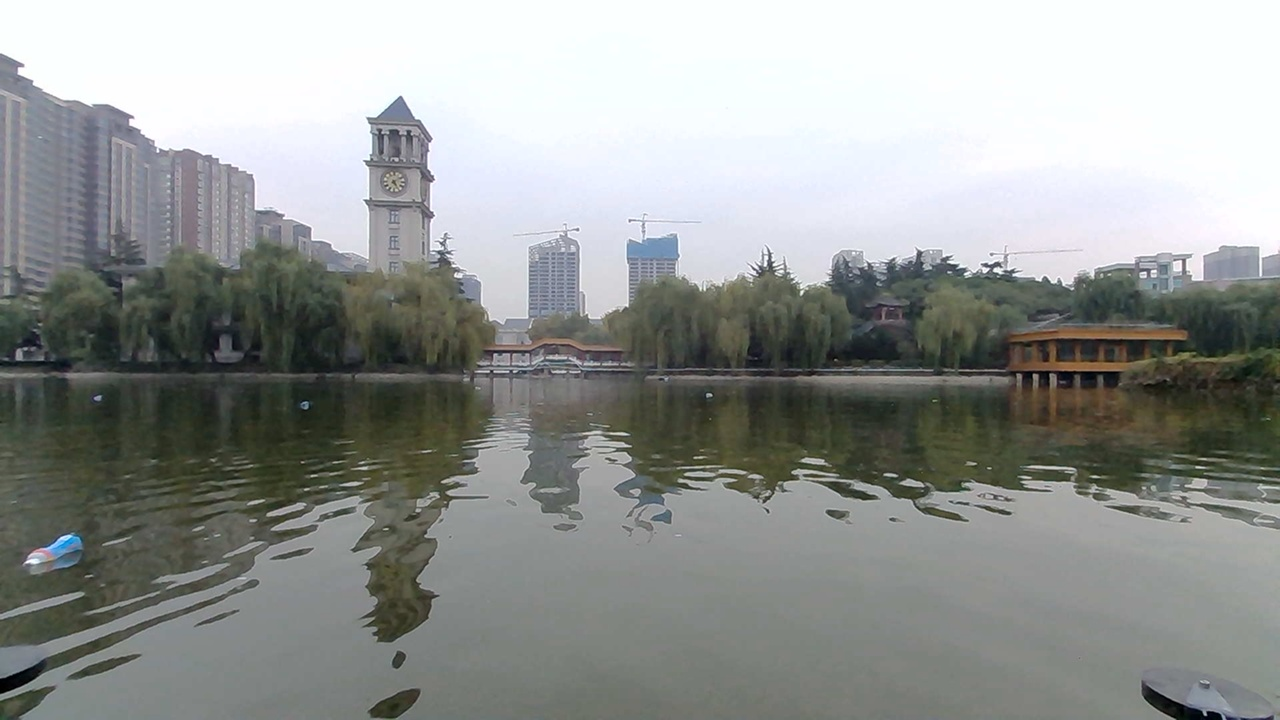bottle: (14, 532, 99, 572), (88, 384, 124, 408), (291, 390, 325, 412), (699, 387, 735, 406)
